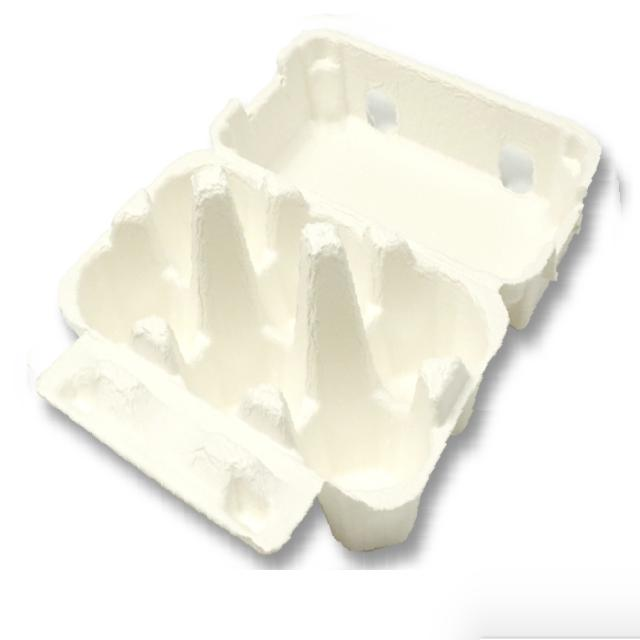biodegradable: (1, 1, 634, 570)
